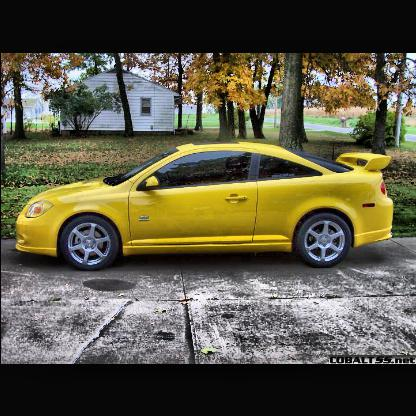Chevrolet Cobalt SS 2010: (11, 139, 400, 270)
